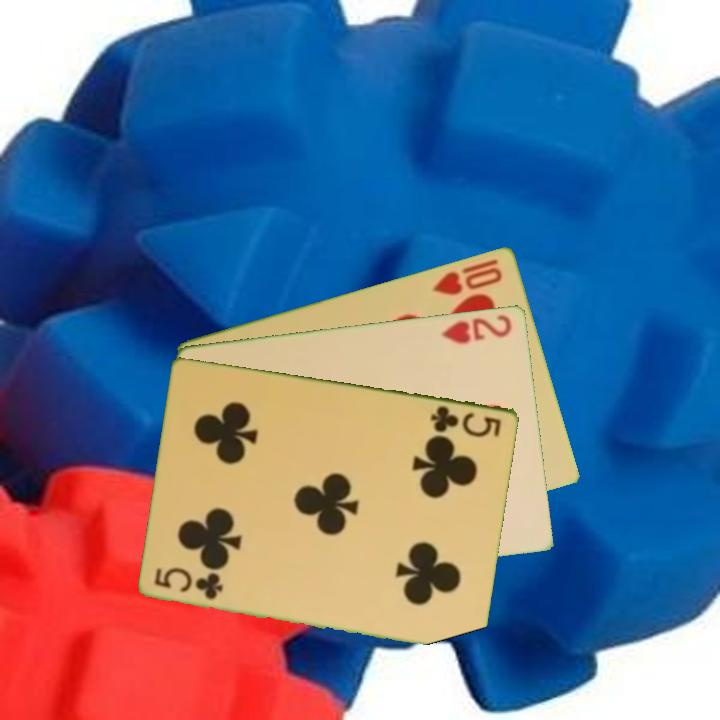10h: (429, 263, 506, 298)
2h: (438, 310, 515, 346)
5c: (428, 402, 505, 440), (151, 565, 226, 602)
